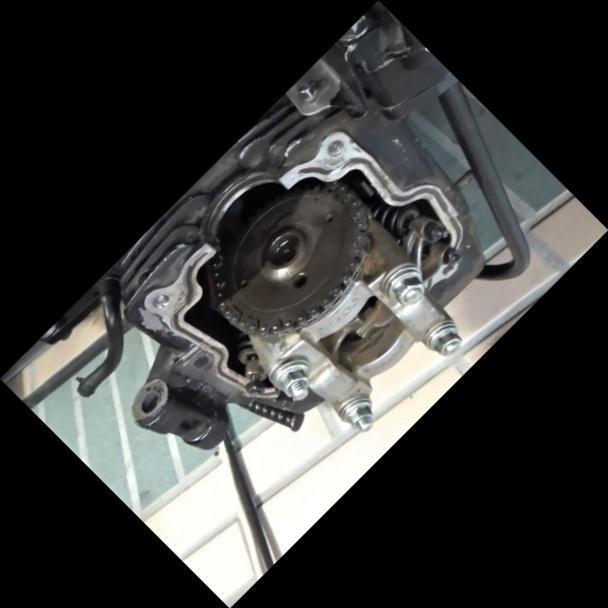hole: (323, 135, 347, 159), (149, 289, 171, 312)
